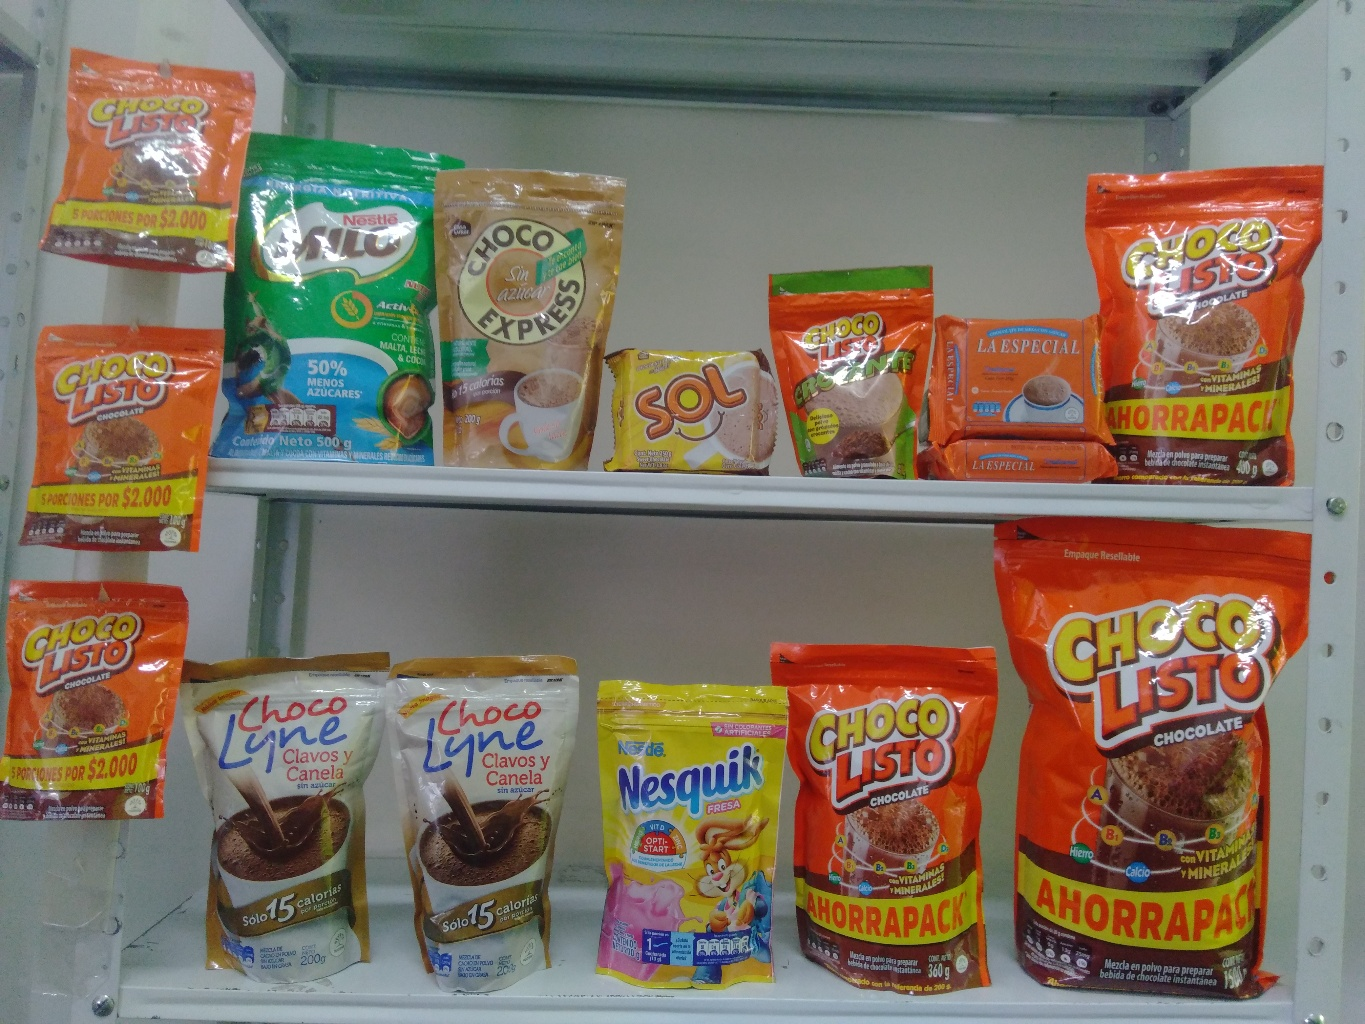COL0170102DYP10000: (773, 248, 943, 478)
COL0170103DYP1,500: (997, 512, 1345, 991)
COL0170103DYP10000: (52, 43, 255, 271)
COL0170103DYP36000: (764, 632, 1003, 986)
COL0170103DYP40000: (1091, 161, 1332, 479)
COL0170205DYP50000: (202, 123, 447, 464)
COL0170305DYP20000: (597, 681, 791, 990)
